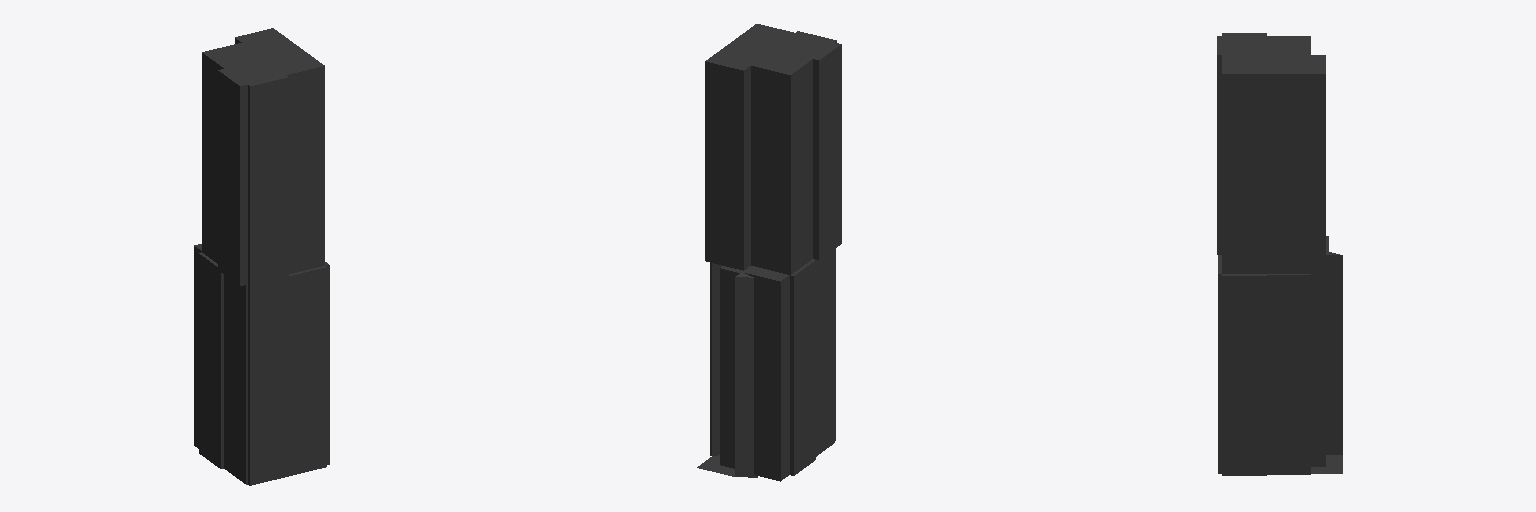
Rendered from pillar_7.obj.
3 renders of one model, left to right at view 1: azimuth 30°, elevation 25°; view 2: azimuth 150°, elevation 25°; view 3: azimuth 270°, elevation 25°, orthographic.
Visible parts, largest first — view 1: Cube.001; view 2: Cube.001; view 3: Cube.001.
Part boxes in pixels (x1,y1,x2,y2): Cube.001: (194,28,329,485); Cube.001: (697,24,841,481); Cube.001: (1217,33,1342,475).
Bounding box in the file's own units: 0.8335 × 3.6 × 1.02.